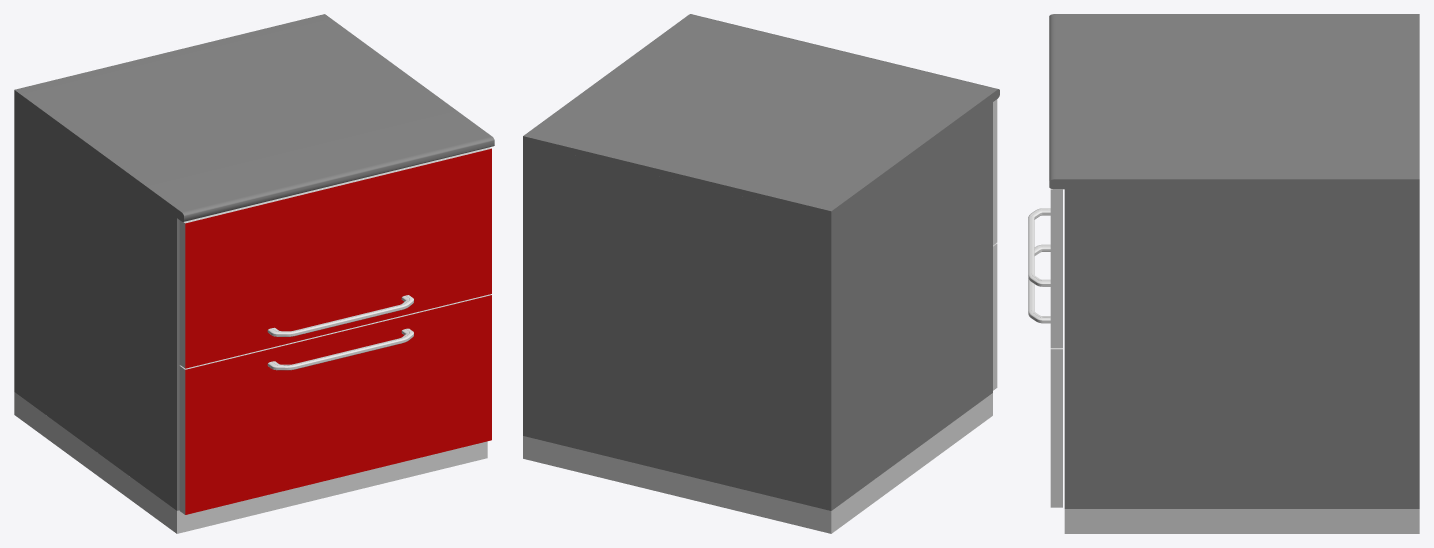
The model's file is sh-lp-mobiletto-piccolo.glb.
3 views of the same model, side by side, from view 1: azimuth 30°, elevation 25°; view 2: azimuth 150°, elevation 25°; view 3: azimuth 270°, elevation 25° (orthographic). The views are drawn at different scales.
Parts seen in each view (by area): view 1: Box662_2, Line70_5, Box67_6, Box66_1, Loft26_4; view 2: Box67_6, Line70_5, Box66_1; view 3: Box67_6, Line70_5, Box66_1, Loft26_4.
Part boxes in pixels (x1=…): Box662_2: x1=185, y1=148, x2=491, y2=514; Line70_5: x1=14, y1=14, x2=494, y2=221; Box67_6: x1=14, y1=97, x2=180, y2=510; Box66_1: x1=14, y1=147, x2=491, y2=533; Loft26_4: x1=267, y1=295, x2=413, y2=370; Box67_6: x1=523, y1=102, x2=992, y2=510; Line70_5: x1=523, y1=14, x2=999, y2=219; Box66_1: x1=523, y1=99, x2=997, y2=533; Box67_6: x1=1064, y1=187, x2=1419, y2=508; Line70_5: x1=1049, y1=14, x2=1419, y2=189; Box66_1: x1=1050, y1=189, x2=1419, y2=533; Loft26_4: x1=1028, y1=208, x2=1050, y2=323.
Bounding box in the file's own units: 1 × 1 × 1.
